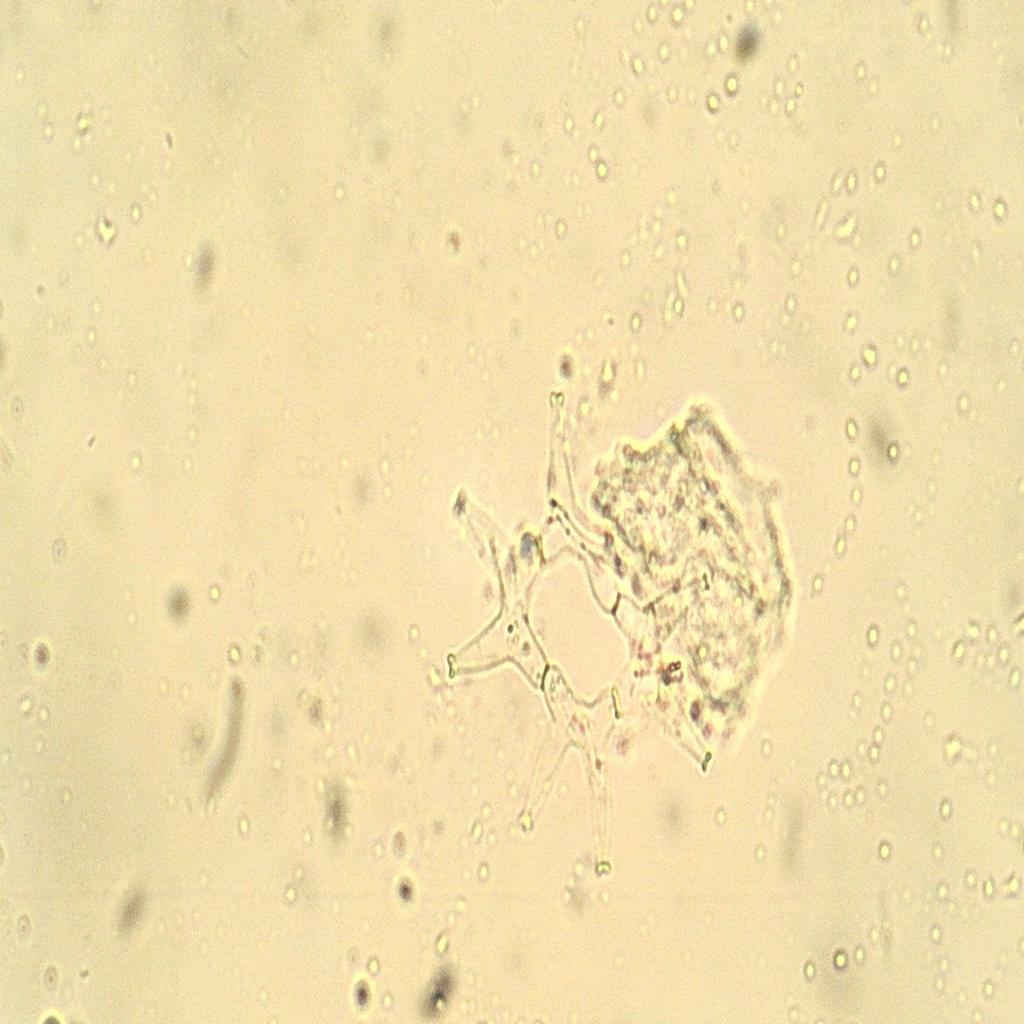Pediastrum_75TH: (430, 348, 723, 922)
